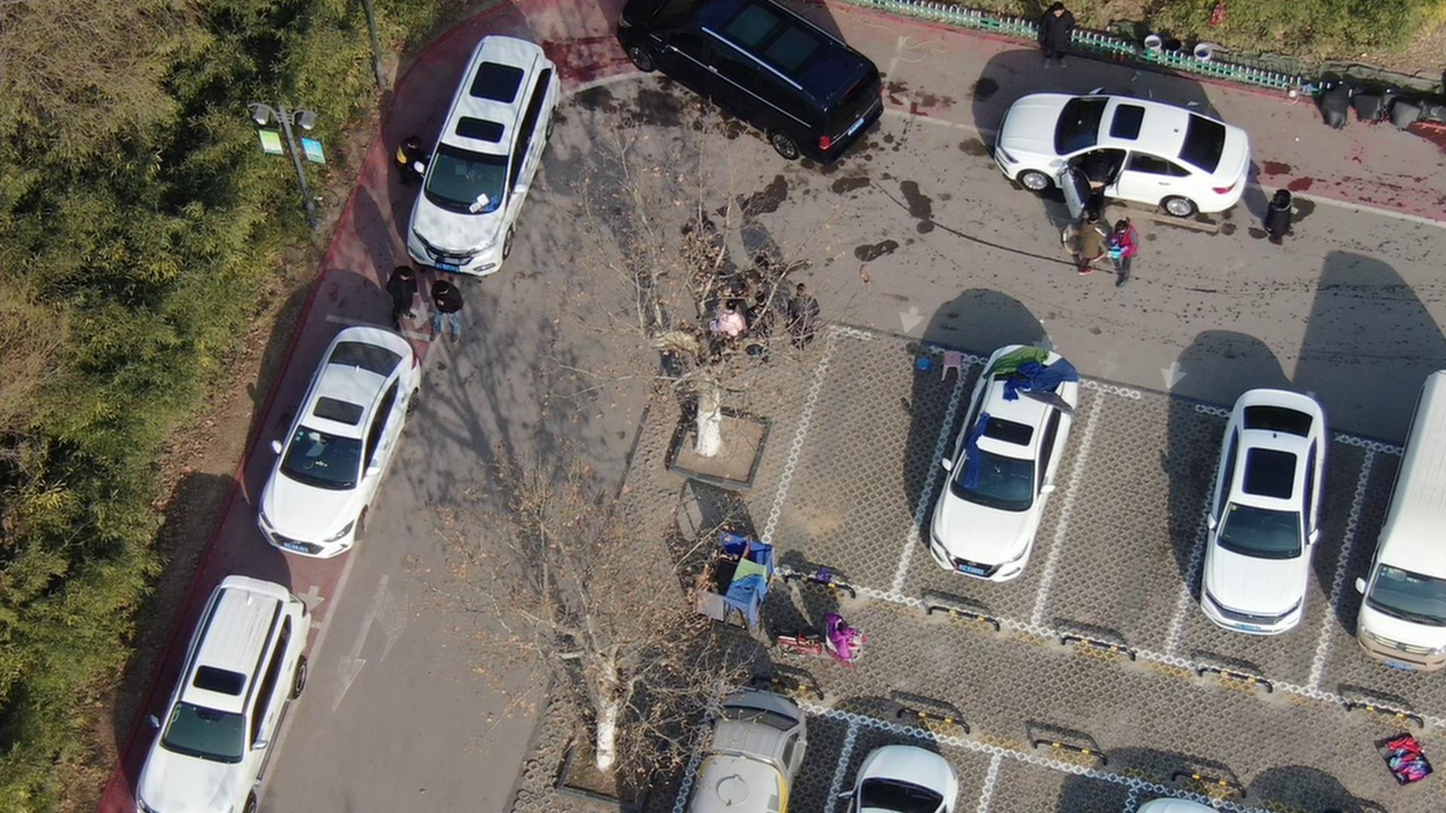human: (784, 279, 824, 358), (1109, 214, 1146, 290), (431, 281, 474, 346), (387, 260, 425, 333), (1066, 218, 1112, 278), (1042, 3, 1082, 70), (1263, 184, 1304, 248), (750, 290, 785, 364), (397, 128, 436, 188), (1088, 145, 1118, 214)
